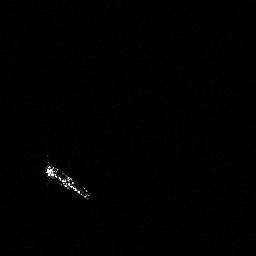ship: (42, 151, 96, 203)
